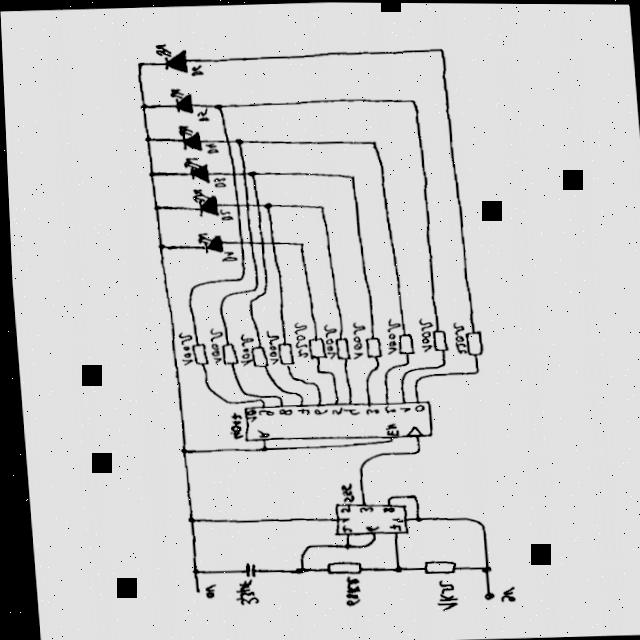capacitor: (237, 562, 251, 577)
crossover: (255, 239, 263, 245), (266, 239, 273, 245), (252, 201, 259, 207), (231, 201, 238, 207), (227, 170, 234, 176), (241, 202, 249, 207), (221, 138, 229, 143), (245, 239, 251, 245), (235, 240, 241, 245), (238, 171, 244, 175)
diode: (152, 43, 187, 74), (188, 188, 216, 216), (180, 156, 208, 184), (175, 124, 201, 151), (167, 87, 192, 114), (193, 231, 220, 254)
junction: (355, 451, 380, 464), (208, 392, 227, 406), (463, 514, 482, 527), (357, 536, 370, 548), (210, 102, 222, 111), (173, 447, 186, 455), (283, 373, 293, 383), (184, 283, 195, 292), (288, 566, 300, 574), (294, 543, 306, 551), (473, 564, 485, 572), (430, 361, 443, 368), (215, 292, 224, 302), (140, 135, 151, 143), (254, 444, 265, 452), (396, 368, 408, 375), (291, 391, 300, 400), (136, 102, 146, 110), (260, 201, 270, 209), (245, 169, 255, 177), (180, 516, 191, 523), (236, 390, 247, 397), (144, 170, 154, 177), (153, 243, 163, 250), (148, 204, 158, 211), (232, 137, 242, 144), (407, 515, 417, 522), (412, 374, 422, 381), (379, 366, 389, 373), (406, 448, 417, 454), (367, 138, 376, 145), (134, 61, 143, 68), (367, 362, 376, 369), (323, 369, 332, 376), (308, 380, 317, 387), (467, 368, 476, 375), (403, 492, 413, 498), (183, 568, 193, 574), (388, 565, 396, 572), (359, 371, 366, 379), (380, 494, 389, 500), (267, 393, 276, 399), (244, 297, 251, 304), (407, 97, 415, 103), (233, 275, 241, 281), (247, 286, 255, 292), (337, 542, 345, 548), (398, 360, 406, 366), (273, 387, 282, 392), (347, 173, 354, 179), (437, 46, 444, 52), (315, 203, 322, 209), (310, 369, 318, 374), (251, 399, 260, 403), (258, 290, 265, 295), (382, 438, 389, 443), (295, 241, 301, 246)
resistor: (319, 560, 357, 574), (416, 559, 451, 574), (460, 330, 481, 355), (215, 341, 235, 365), (329, 335, 348, 360), (272, 342, 291, 367), (303, 336, 323, 359), (360, 335, 379, 358), (245, 345, 265, 366), (393, 332, 412, 354), (187, 342, 206, 364), (427, 328, 445, 351)
terminal: (477, 590, 488, 600), (187, 588, 194, 594)
text: (428, 578, 452, 610), (343, 321, 362, 361), (227, 578, 253, 606), (228, 333, 250, 366), (317, 322, 334, 360), (381, 318, 397, 355), (173, 331, 190, 365), (288, 321, 304, 357), (338, 575, 356, 605), (260, 329, 275, 365), (204, 327, 219, 363), (415, 317, 430, 352), (447, 320, 462, 354), (223, 412, 238, 439), (333, 482, 349, 502), (493, 586, 510, 602), (217, 250, 235, 262), (379, 422, 394, 436), (197, 583, 211, 598), (193, 108, 208, 122), (216, 208, 231, 221), (188, 64, 202, 76), (202, 142, 217, 153), (338, 406, 356, 415), (210, 177, 225, 187), (273, 407, 289, 416), (251, 428, 265, 438), (242, 408, 252, 422), (253, 408, 270, 416), (309, 407, 323, 415), (359, 523, 373, 531), (379, 404, 391, 413), (360, 407, 375, 414), (382, 523, 396, 530), (326, 407, 338, 415), (335, 524, 347, 532), (292, 407, 305, 414), (394, 405, 407, 412), (353, 506, 368, 512), (409, 404, 420, 412), (334, 505, 345, 513), (376, 506, 389, 512), (333, 515, 344, 522), (386, 516, 398, 522)
